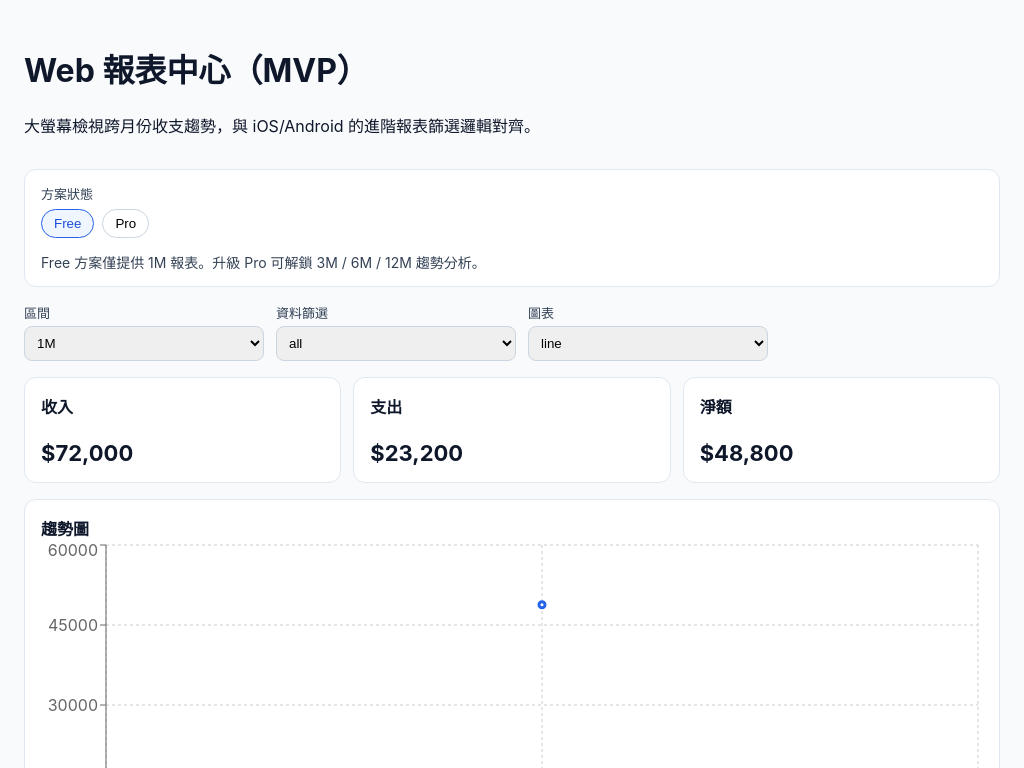
Test: Web report center UI › unlocks longer periods when switched to pro
The width and height of the screenshot is (1024, 768).
Step 1. Click the button "Pro" → (126, 223), box [102, 209, 149, 238]
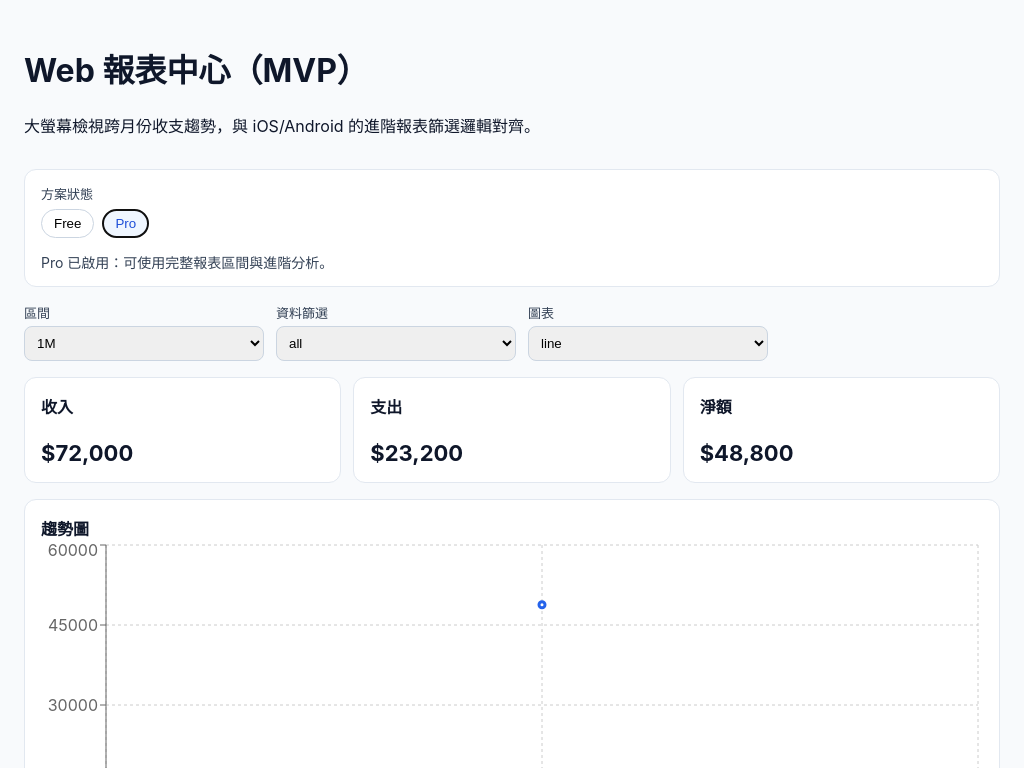
Step 2. Select "3M" in the dropdown labelled "區間" → (144, 343), box [24, 326, 264, 361]
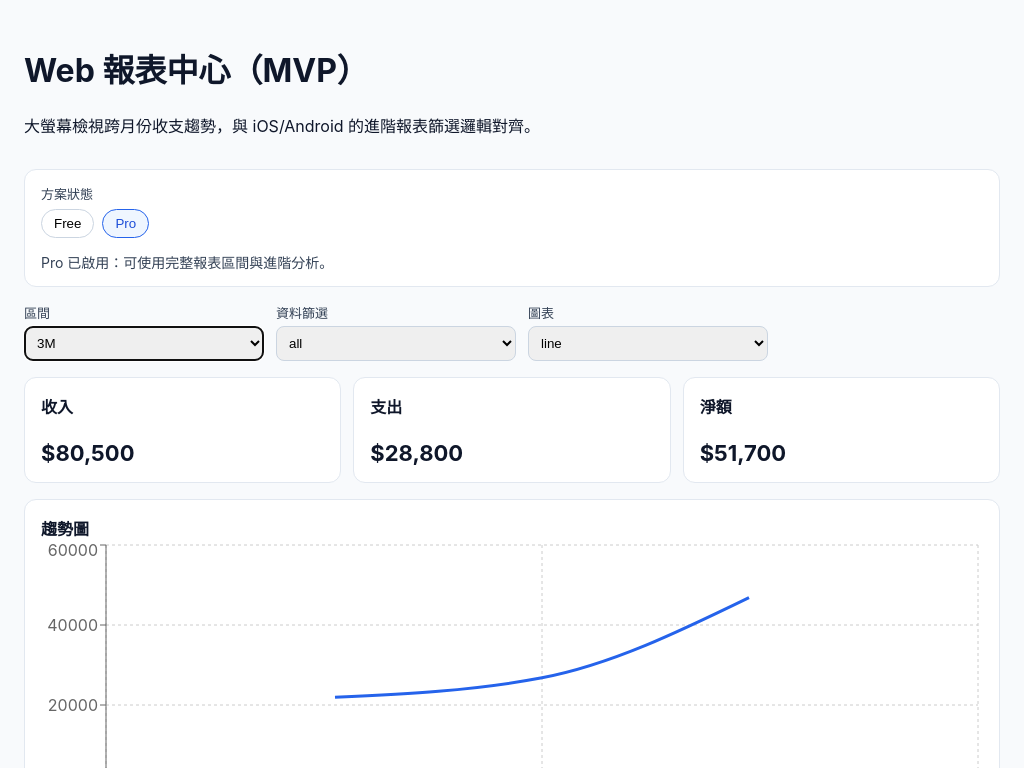
expect the text "Pro 已啟用：可使用完整報表區間與進階分析。" is shown: met, box [41, 254, 333, 271]
expect the text "$80,500" is shown: met, box [41, 440, 134, 466]
